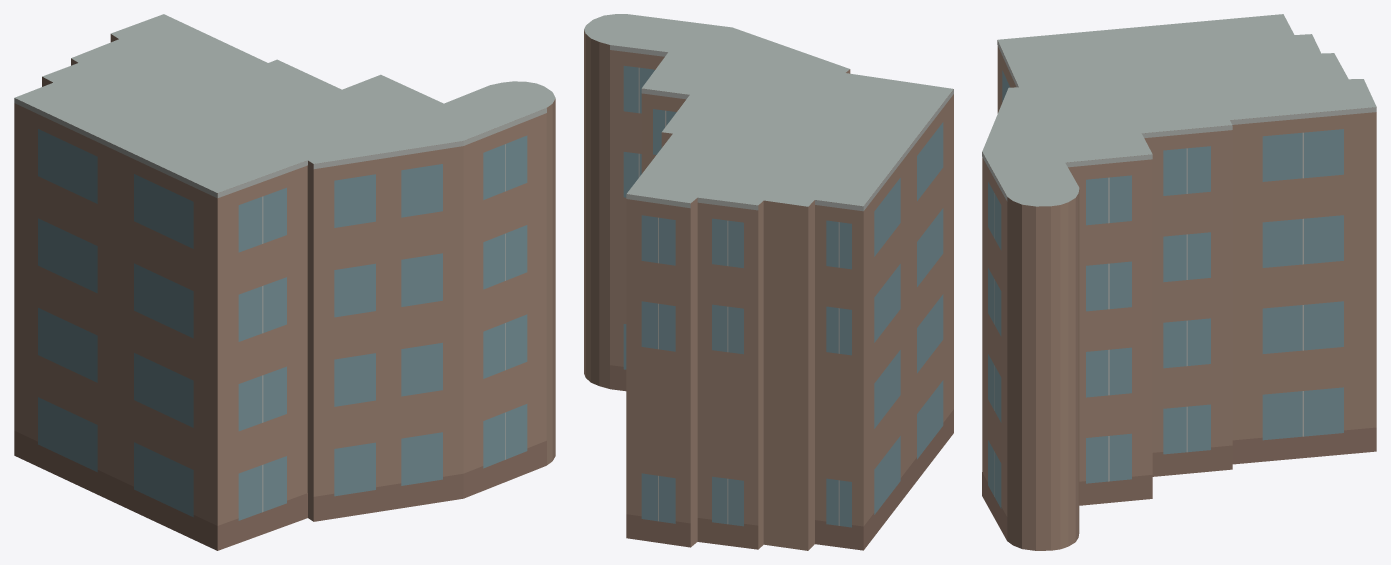
Rendered from survey-upis-32507662.glb.
3 renders of one model, left to right at view 1: azimuth 30°, elevation 25°; view 2: azimuth 150°, elevation 25°; view 3: azimuth 270°, elevation 25°, orthographic. The views are drawn at different scales.
Parts seen in each view (by area): view 1: survey-upis-32507662.tmp; view 2: survey-upis-32507662.tmp; view 3: survey-upis-32507662.tmp.
Boxes of the visible parts, x1,y1,x2,y2 form: survey-upis-32507662.tmp: [14, 14, 555, 550]; survey-upis-32507662.tmp: [584, 14, 953, 550]; survey-upis-32507662.tmp: [982, 14, 1376, 550].
Bounding box in the file's own units: 20.14 × 16.8 × 17.45.
